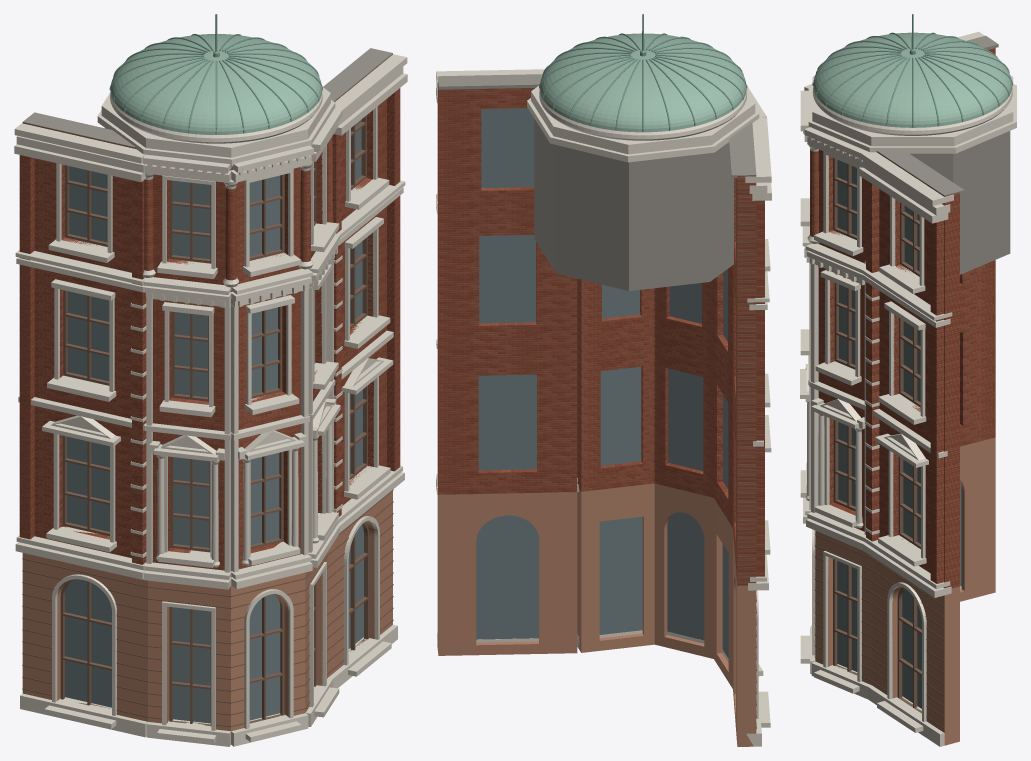
Rendered from huangpu-ta-ching-bank-southwest-tower-raw.glb.
3 views of the same model, side by side, from view 1: azimuth 30°, elevation 25°; view 2: azimuth 150°, elevation 25°; view 3: azimuth 270°, elevation 25° (orthographic). The views are drawn at different scales.
Parts seen in each view (by area): view 1: 大清银行上海分行旧址（西南八角塔楼）; view 2: 大清银行上海分行旧址（西南八角塔楼）; view 3: 大清银行上海分行旧址（西南八角塔楼）.
Part boxes in pixels (x1,y1,x2,y2): 大清银行上海分行旧址（西南八角塔楼）: [14, 14, 407, 746]; 大清银行上海分行旧址（西南八角塔楼）: [436, 14, 771, 746]; 大清银行上海分行旧址（西南八角塔楼）: [800, 14, 1016, 746].
Bounding box in the file's own units: 10.92 × 19.35 × 5.92.
Materials: 8 (1 with a texture image).
